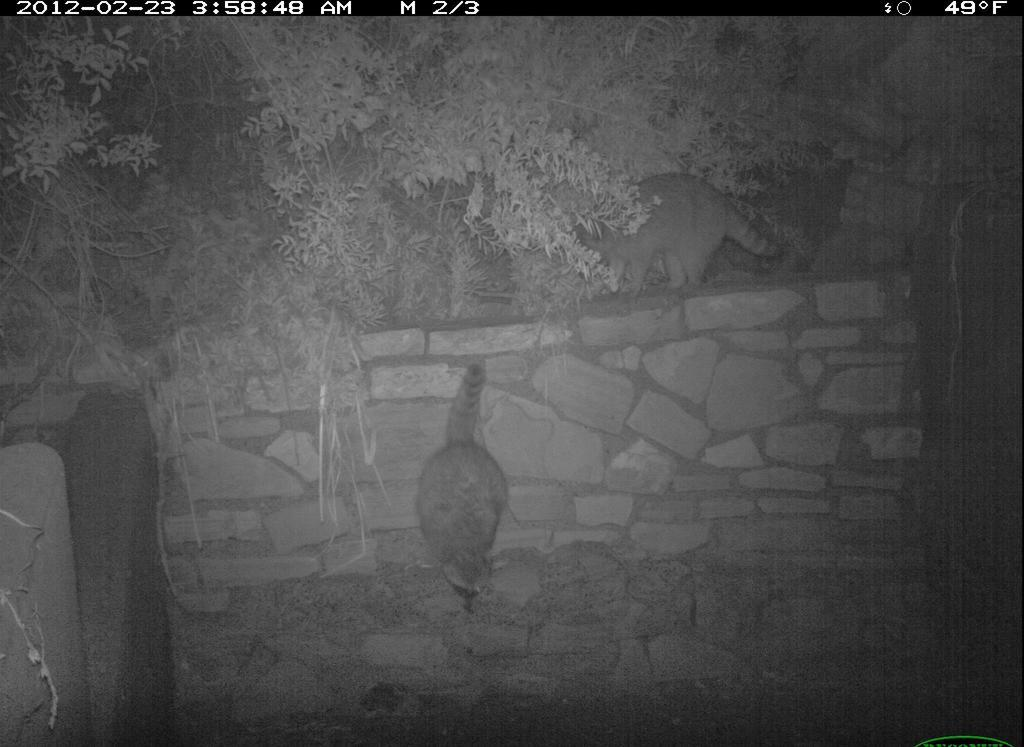raccoon: (547, 161, 793, 304), (408, 351, 523, 623)
